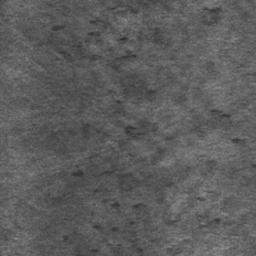Rolled in scale: (25, 3, 256, 256), (237, 64, 256, 106), (199, 7, 222, 35), (0, 228, 19, 256), (0, 12, 13, 23)
